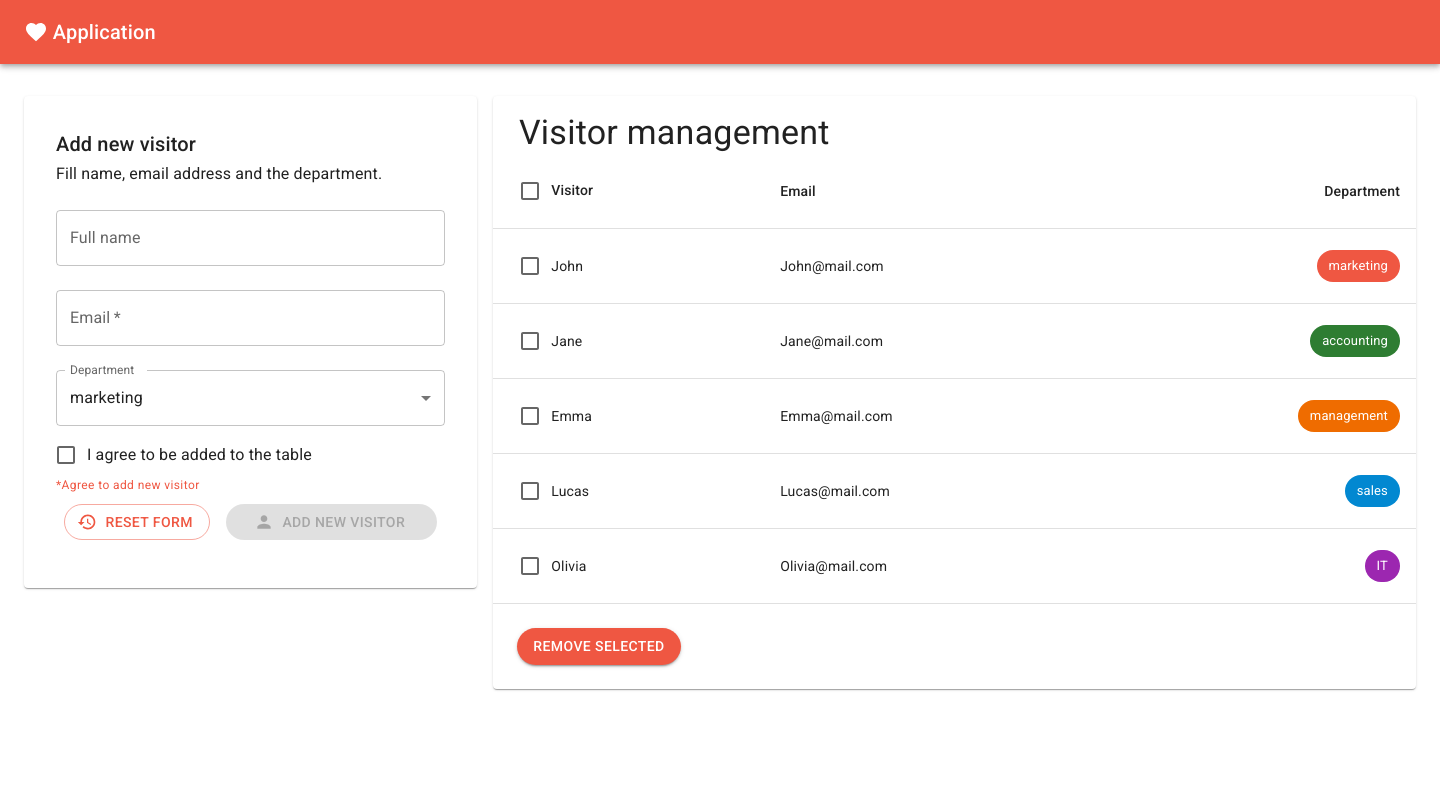
Test: Given form is filled correctly › when pressing reset button, it should reset all fields
The width and height of the screenshot is (1440, 800).
Type "John Doe" into the field named "visitor" at (251,238), box [56, 210, 445, 266]
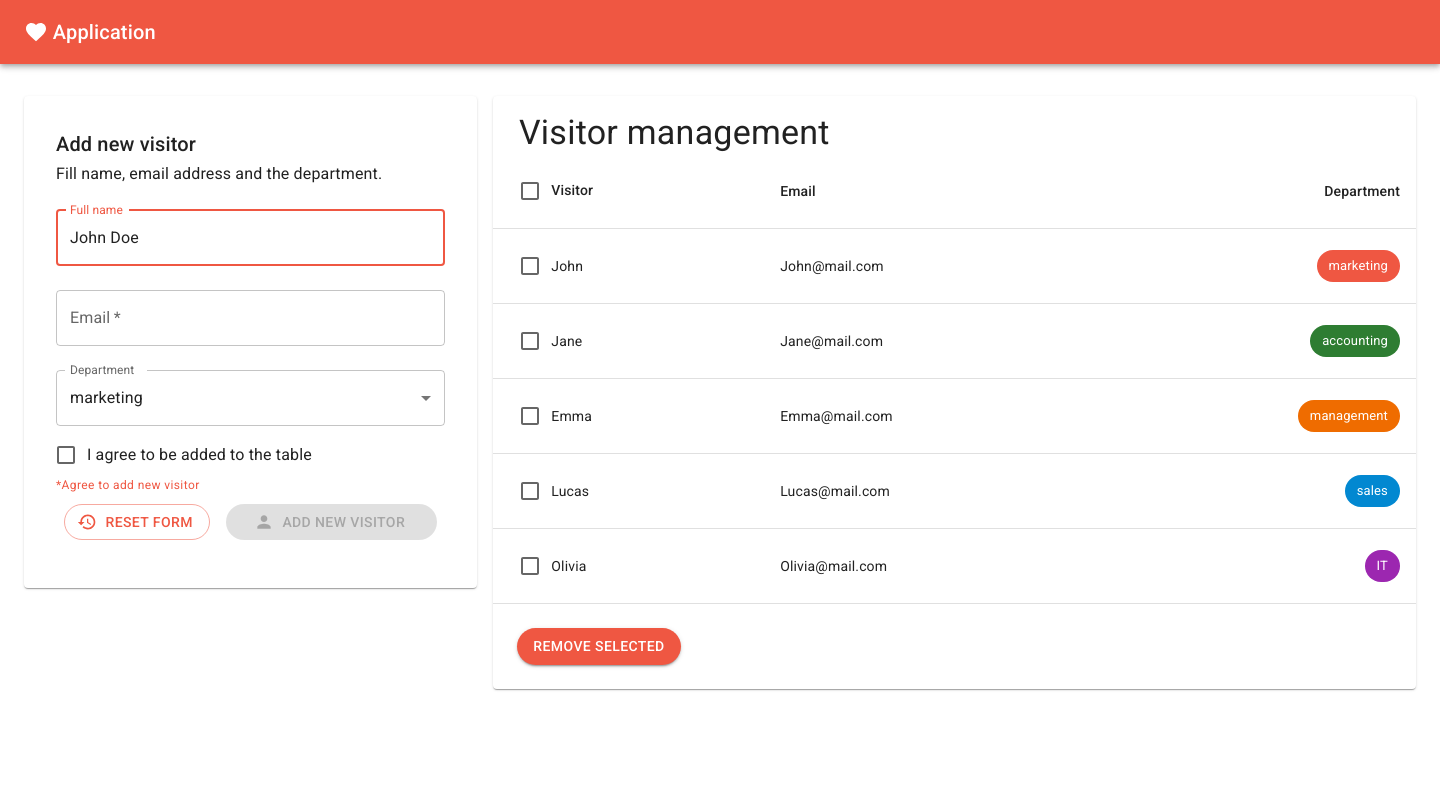
Type "john.doe@example.com" into the field named "email" at (251,318), box [56, 290, 445, 346]
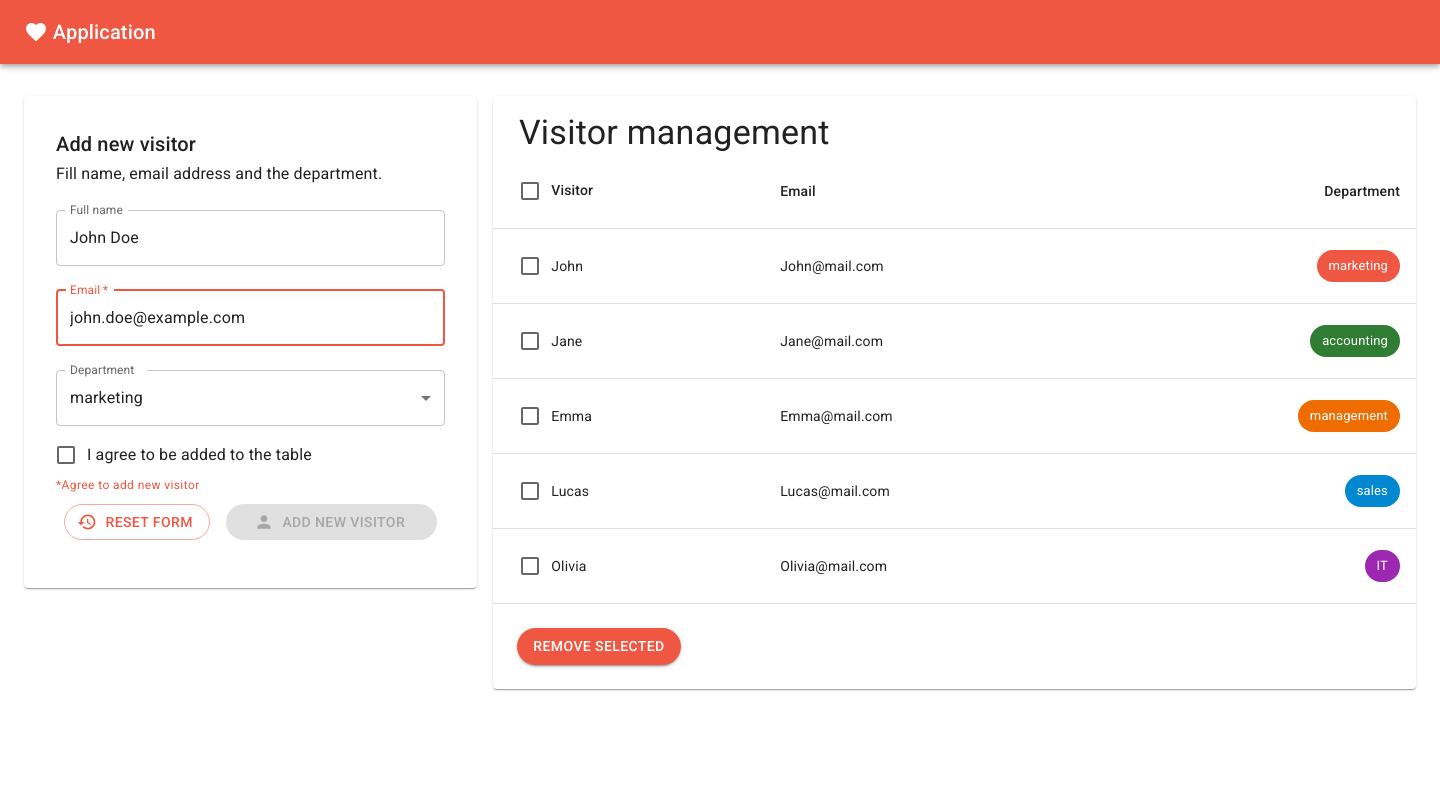
Check the checkbox named "isAgreementChecked" at (66,455), box [45, 434, 87, 476]
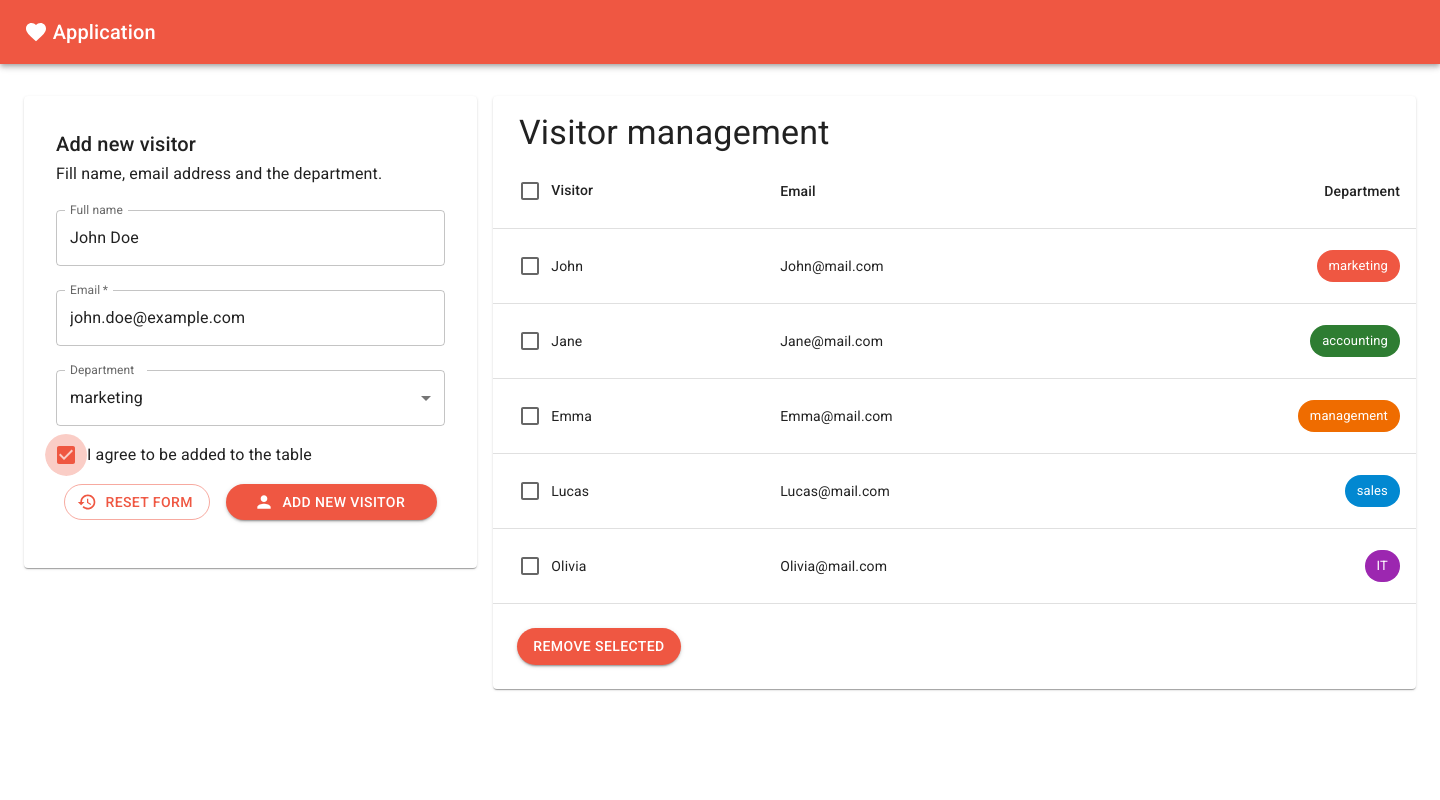
Click the dropdown with id "department-select" at (107,398), box [70, 388, 143, 407]
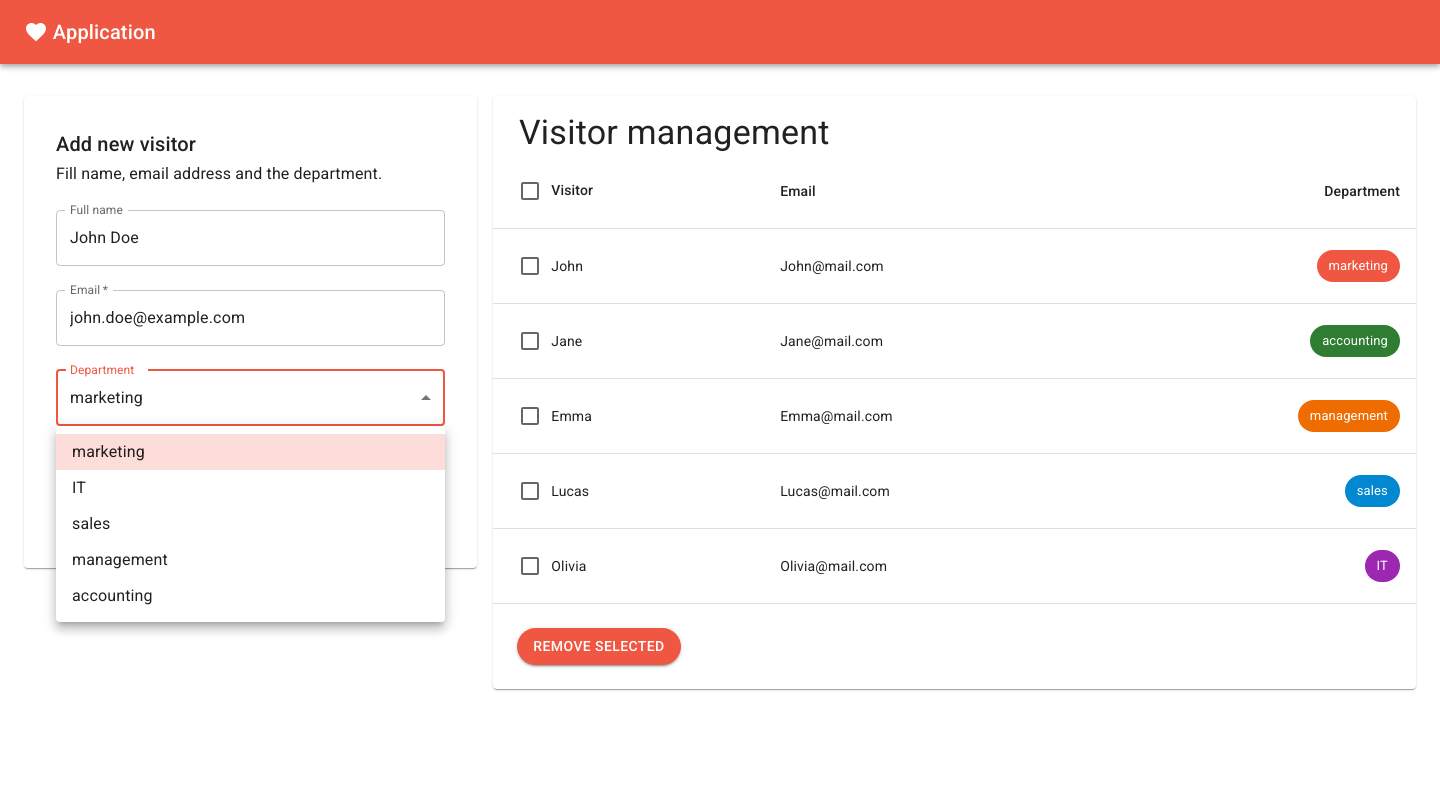
Click the option "sales" at (91,524), box [72, 514, 110, 533]
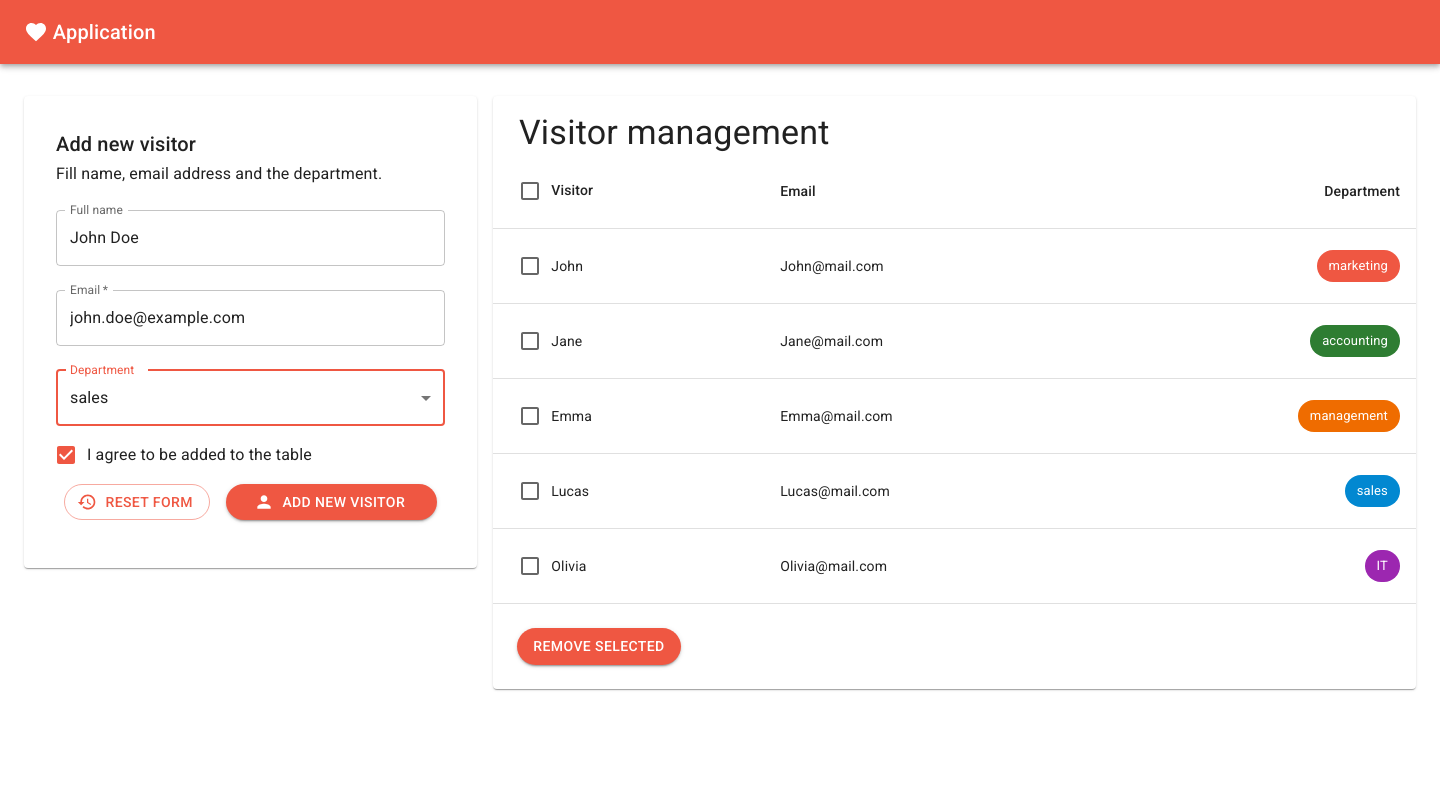
Click the button with test id "add-visitor-button" at (332,503), box [226, 484, 437, 521]
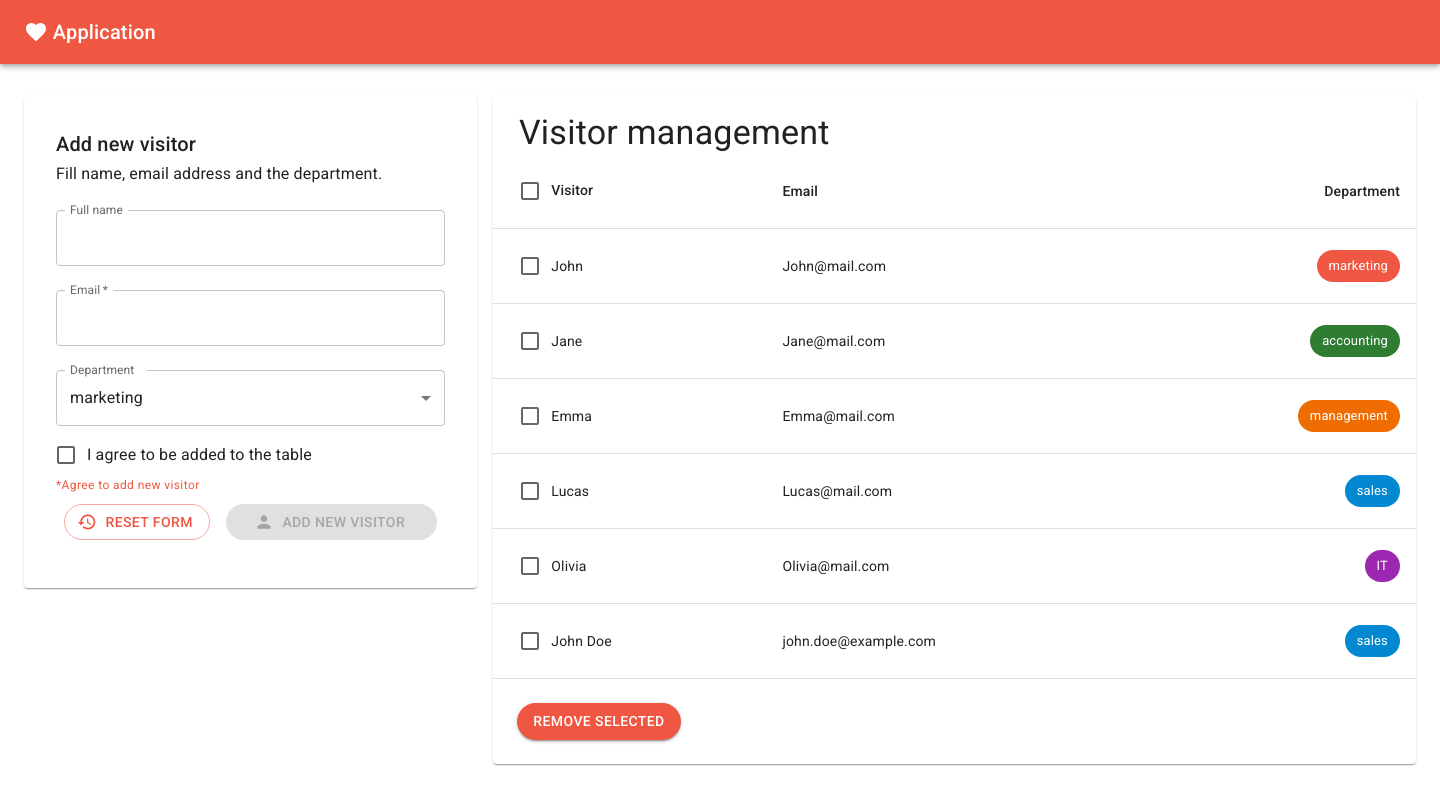
Expected: the element named "isAgreementChecked" is not checked
Result: the text "*Agree to add new visitor" is shown at [56, 478, 200, 492]
Result: the button with test id "add-visitor-button" is disabled at [226, 504, 437, 541]
